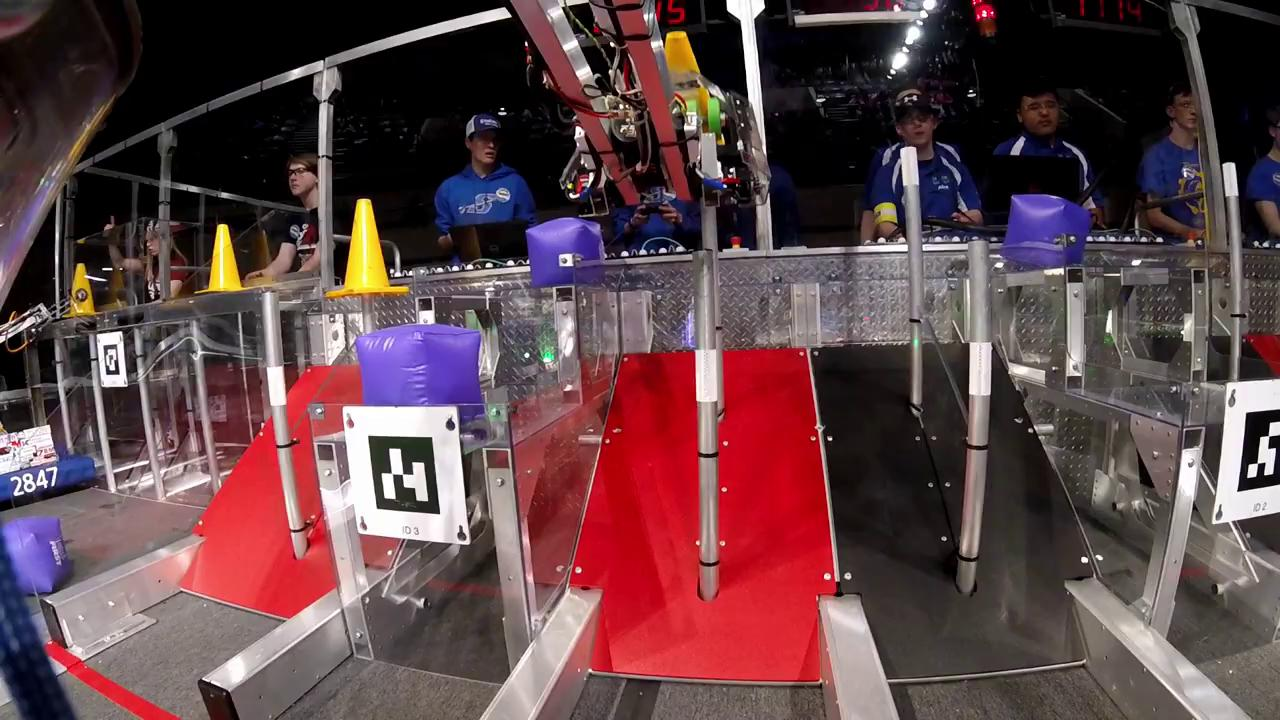robot: (0, 303, 96, 510)
